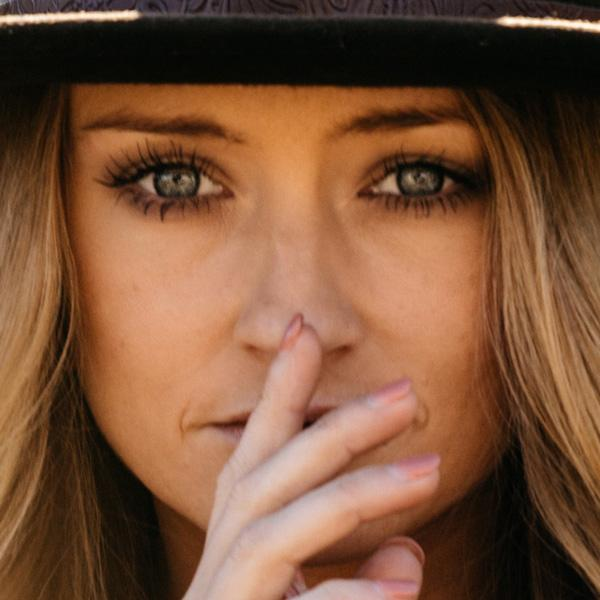Eyes: (101, 141, 242, 227), (351, 145, 484, 222)
